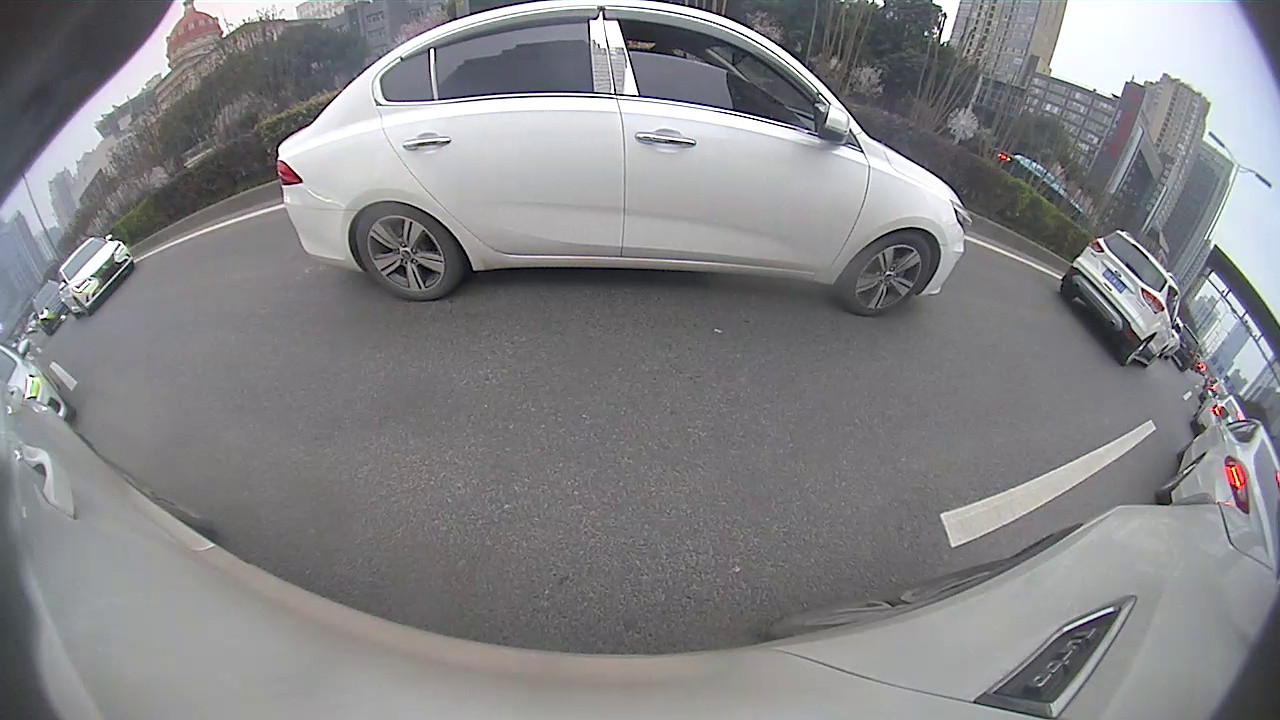car: (275, 2, 974, 319), (1155, 407, 1278, 574), (1058, 227, 1186, 371), (51, 237, 137, 319)
front: (837, 227, 934, 317)
rear: (356, 204, 465, 301), (1122, 334, 1153, 367)
